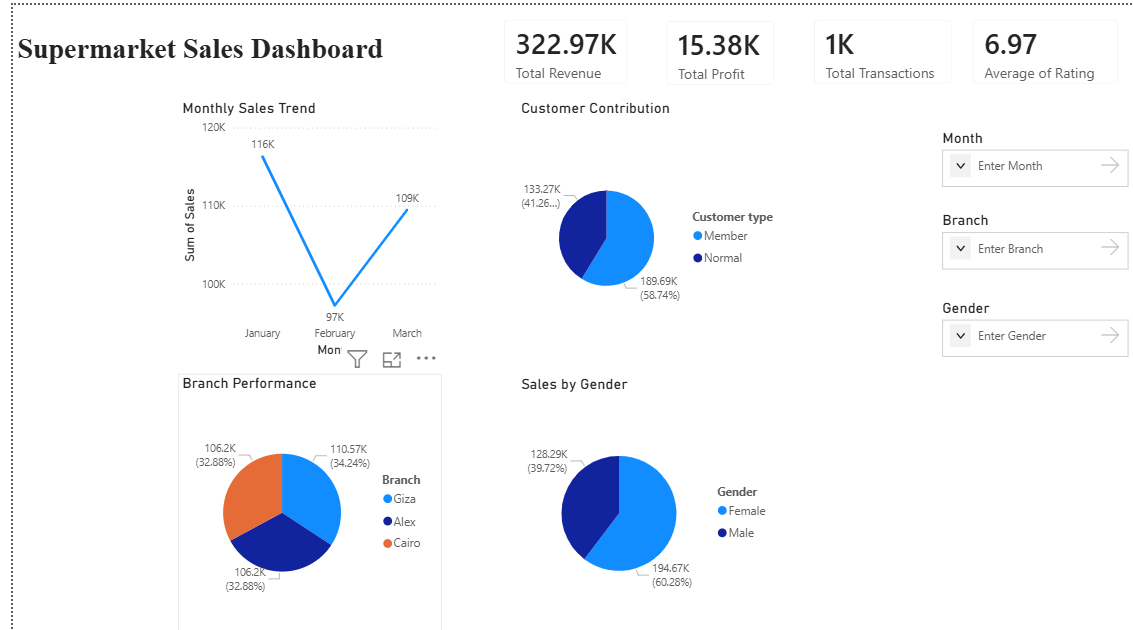

What the dashboard file says about the page in this screenshot:
{"tool":"powerbi","page":{"name":"Supermarket Sales Dashboard","canvas":[1280,720],"ordinal":0},"visuals":[{"type":"lineChart","title":"Monthly Sales Trend","fields":{"Y":["Sum(SuperMarket Analysis.Sales)"],"Category":["SuperMarket Analysis.Date.Variation.Date Hierarchy.Month"]},"box":[188.8,107.5,300,300],"z":0},{"type":"pieChart","title":"Sales by Gender","fields":{"Category":["SuperMarket Analysis.Gender"],"Y":["Sum(SuperMarket Analysis.Sales)"]},"box":[576.2,422.5,300,297.5],"z":1000},{"type":"pieChart","title":"Customer Contribution","fields":{"Category":["SuperMarket Analysis.Customer type"],"Y":["Sum(SuperMarket Analysis.Sales)"]},"box":[576.2,107.5,302.5,300],"z":2000},{"type":"pieChart","title":"Branch Performance","fields":{"Category":["SuperMarket Analysis.Branch"],"Y":["Sum(SuperMarket Analysis.Sales)"]},"box":[188.8,421.2,301.2,298.8],"z":3000},{"type":"cardVisual","fields":{"Data":["Sum(SuperMarket Analysis.Sales)"]},"box":[544.3,0,175.7,107.1],"z":4000},{"type":"cardVisual","fields":{"Data":["Sum(SuperMarket Analysis.gross income)"]},"box":[730,1.4,157.1,107.1],"z":5000},{"type":"cardVisual","fields":{"Data":["CountNonNull(SuperMarket Analysis.Invoice ID)"]},"box":[898.6,0,192.9,107.1],"z":6000},{"type":"cardVisual","fields":{"Data":["Avg(SuperMarket Analysis.Rating)"]},"box":[1080,0,200,107.1],"z":7000},{"type":"textSlicer","fields":{"Values":["SuperMarket Analysis.Month"]},"box":[1057.5,141.2,222.5,71.2],"z":8000},{"type":"textSlicer","fields":{"Values":["SuperMarket Analysis.Gender"]},"box":[1057.5,336.2,222.5,71.2],"z":9000},{"type":"textSlicer","fields":{"Values":["SuperMarket Analysis.Branch"]},"box":[1057.5,236.2,222.5,71.2],"z":10000},{"type":"textbox","box":[0,25.7,445.7,61.4],"z":11000}]}

Visuals, with their boxes in screenshot pixels (x1, y1, x2, y2), scaled from the page's 1280x720 canvas onto the 1133x630 screenshot:
"Monthly Sales Trend" lineChart: box(167, 94, 433, 357)
"Sales by Gender" pieChart: box(510, 370, 776, 629)
"Customer Contribution" pieChart: box(510, 94, 778, 357)
"Branch Performance" pieChart: box(167, 369, 434, 629)
cardVisual - Sum(SuperMarket Analysis.Sales): box(482, 0, 637, 94)
cardVisual - Sum(SuperMarket Analysis.gross income): box(646, 1, 785, 95)
cardVisual - CountNonNull(SuperMarket Analysis.Invoice ID): box(795, 0, 966, 94)
cardVisual - Avg(SuperMarket Analysis.Rating): box(956, 0, 1132, 94)
textSlicer - SuperMarket Analysis.Month: box(936, 124, 1132, 186)
textSlicer - SuperMarket Analysis.Gender: box(936, 294, 1132, 356)
textSlicer - SuperMarket Analysis.Branch: box(936, 207, 1132, 269)
textbox: box(0, 22, 395, 76)
